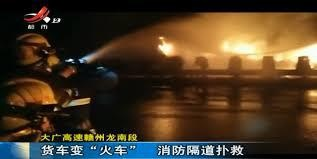fire: (220, 37, 316, 65), (156, 35, 174, 55)
